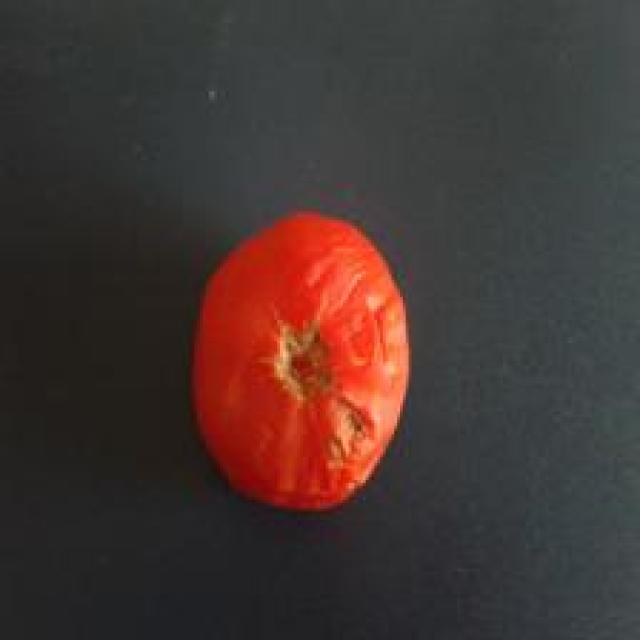overripe: (186, 213, 416, 516)
